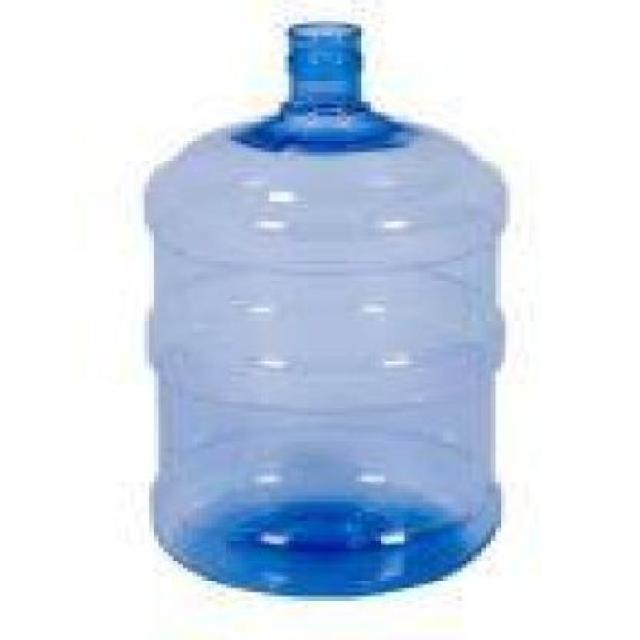coolerbottle: (135, 17, 514, 608)
